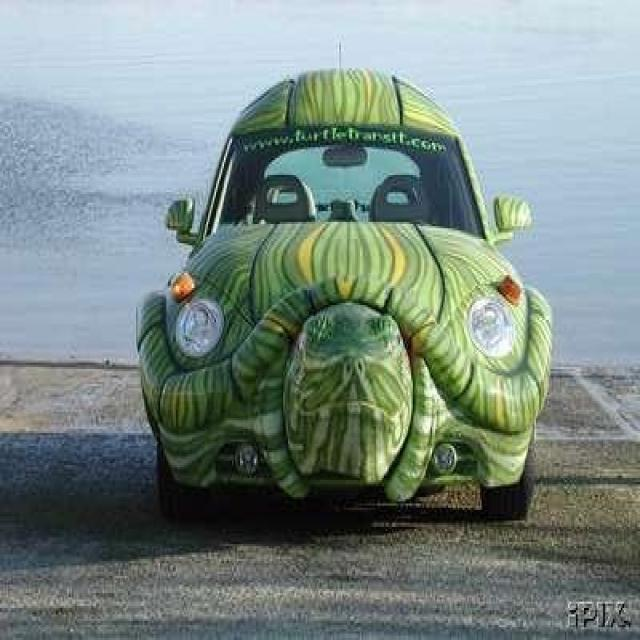car: (136, 67, 555, 522)
